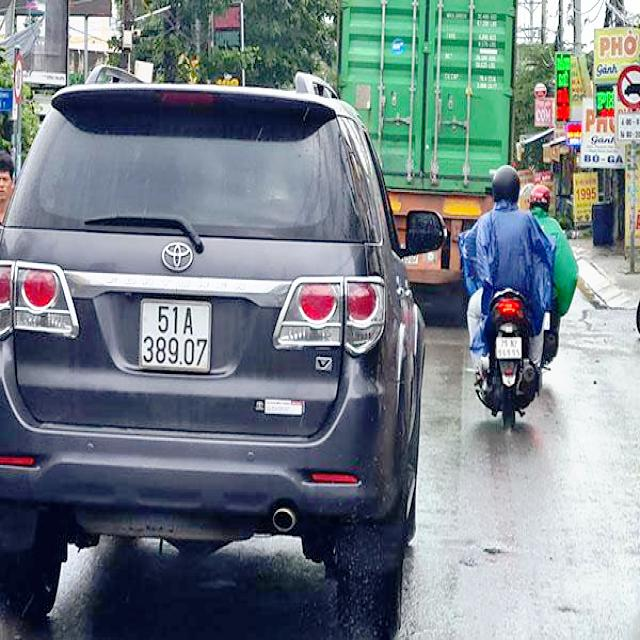license_plate: (140, 302, 210, 373)
